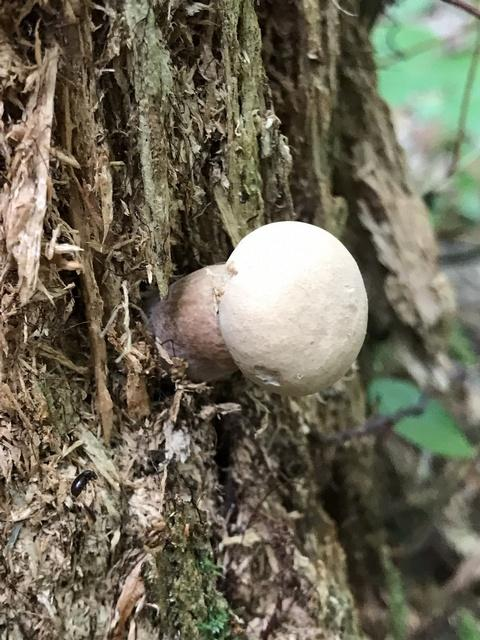poisonous_mushroom: (216, 219, 369, 397)
